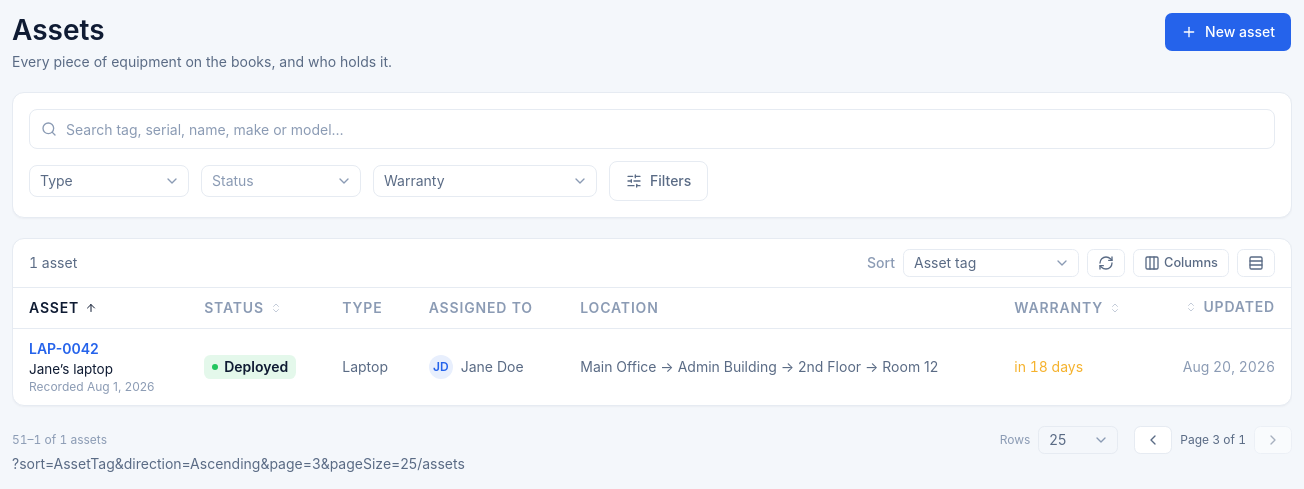
Test: AssetsPage › returns to page one when a filter changes
Expected: the button "LAP-0042" is shown, [29,338,99,358]
Click the dropdown labelled "Type" at x=109, y=181, box [29,165,189,197]
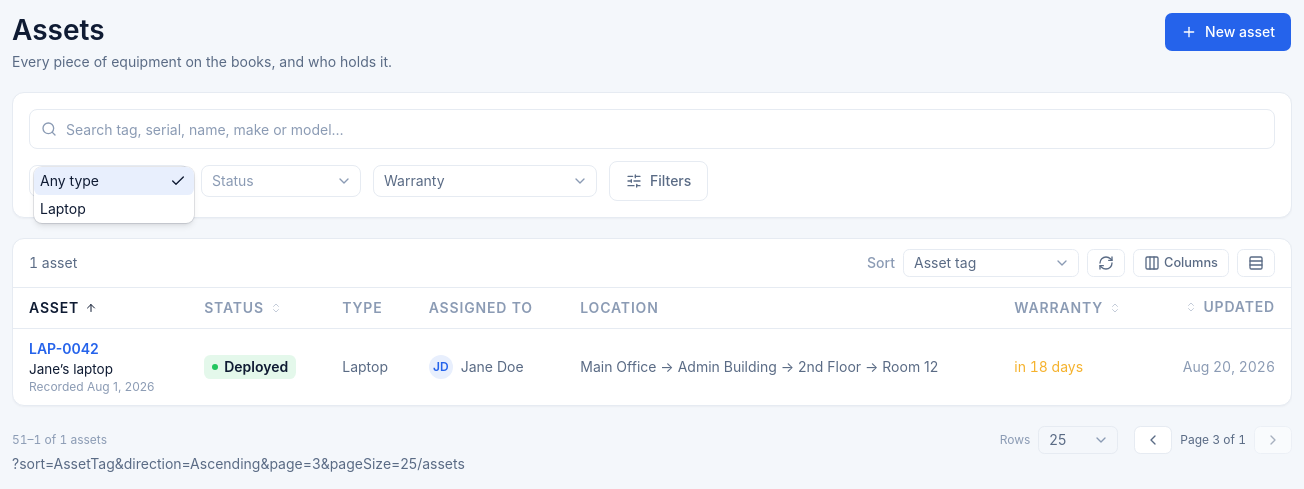
Click the option "Laptop" at x=63, y=208, box [40,200,86,217]
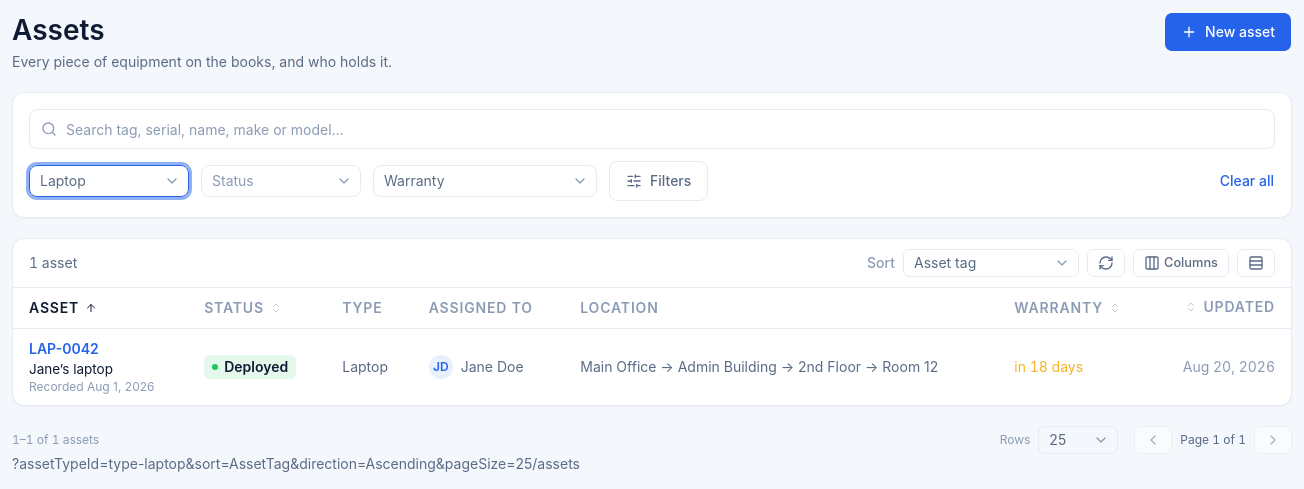
Now the text with test id "address" shows "assetTypeId=type-laptop", box [12,454,532,472]
Now the text with test id "address" no longer shows "page=3"
